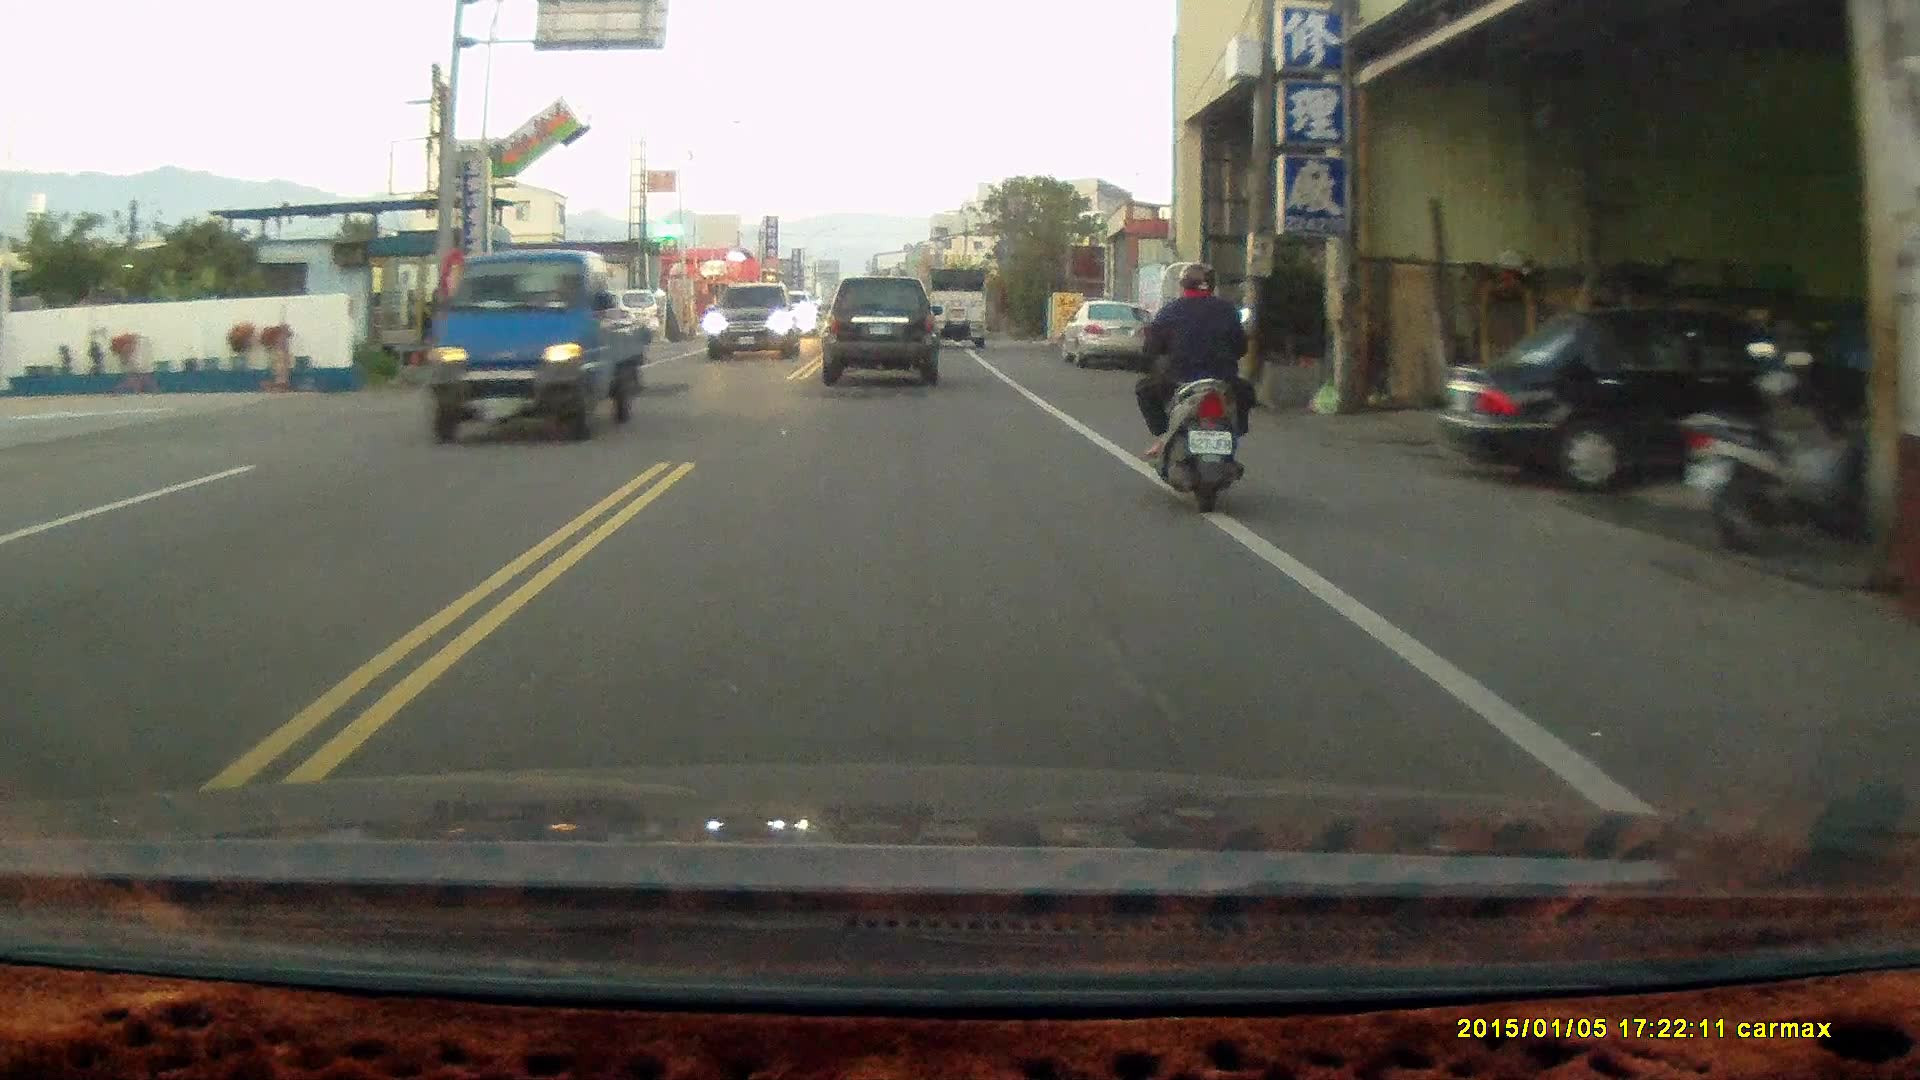rider: (1127, 258, 1253, 518)
vehicle: (1438, 302, 1867, 502), (429, 255, 661, 444), (822, 274, 942, 387), (710, 284, 807, 362), (1057, 294, 1159, 364), (924, 271, 993, 354), (567, 289, 661, 347)
